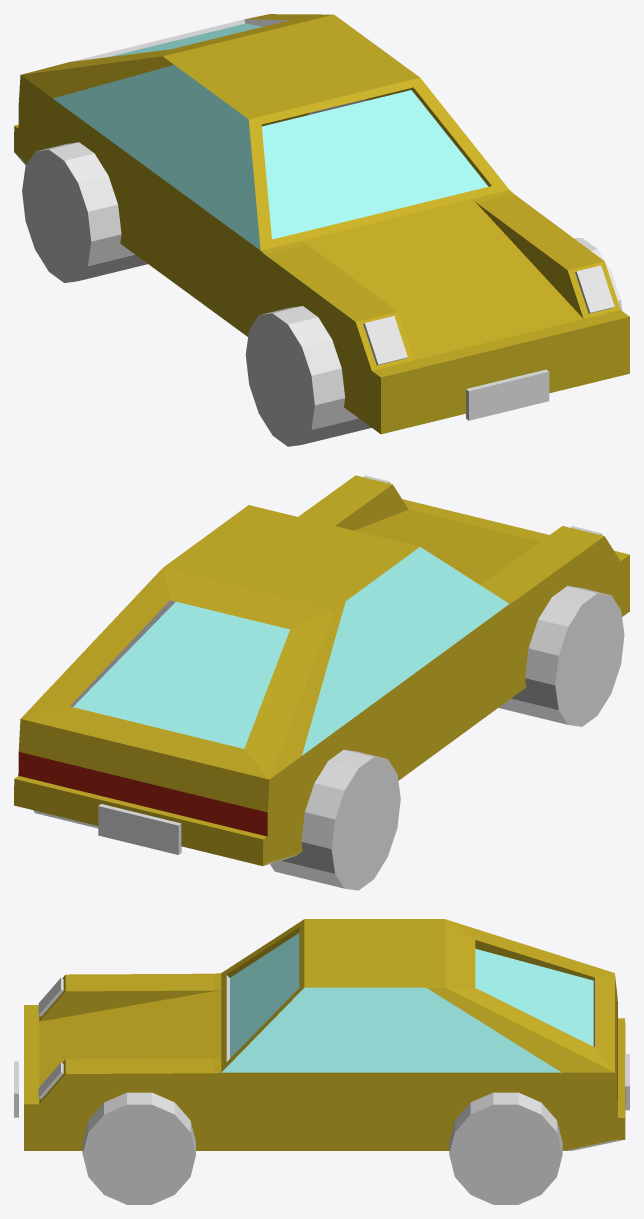
File: porsche 964.fbx
The picture shows the model from 3 angles, top to bottom: view 1: azimuth 30°, elevation 25°; view 2: azimuth 150°, elevation 25°; view 3: azimuth 270°, elevation 25°; orthographic projection. The views are drawn at different scales.
Visible parts, largest first — view 1: Coche, Guardabarros, Guardabarros.001, Matricula; view 2: Coche, Guardabarros.001, Guardabarros, Matricula.001; view 3: Coche, Guardabarros.001, Guardabarros.
Part boxes in pixels (x1=…): Coche: x1=14, y1=14, x2=629, y2=434; Guardabarros: x1=245, y1=238, x2=622, y2=446; Guardabarros.001: x1=22, y1=142, x2=147, y2=282; Matricula: x1=466, y1=369, x2=549, y2=420; Coche: x1=14, y1=475, x2=629, y2=865; Guardabarros.001: x1=33, y1=749, x2=400, y2=890; Guardabarros: x1=498, y1=586, x2=624, y2=726; Matricula.001: x1=98, y1=804, x2=181, y2=854; Coche: x1=24, y1=919, x2=625, y2=1150; Guardabarros.001: x1=449, y1=1092, x2=562, y2=1204; Guardabarros: x1=82, y1=1092, x2=195, y2=1204.
Bounding box in the file's own units: 3.4 × 2.43 × 7.16.
